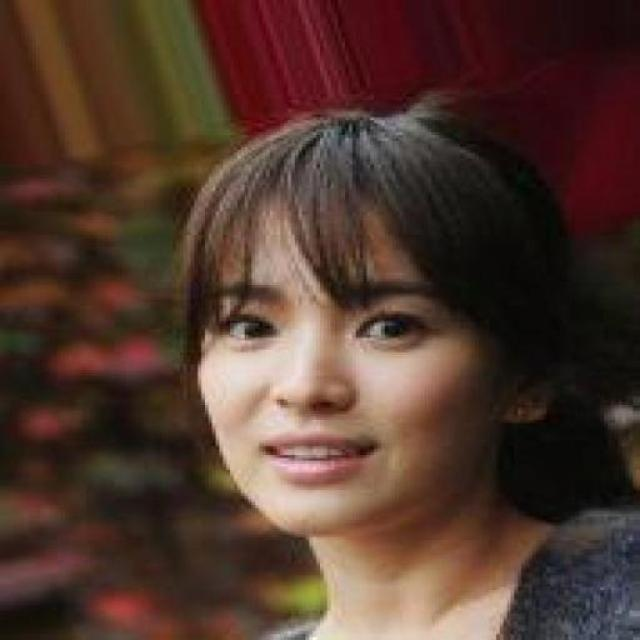bareface: (132, 129, 540, 561)
